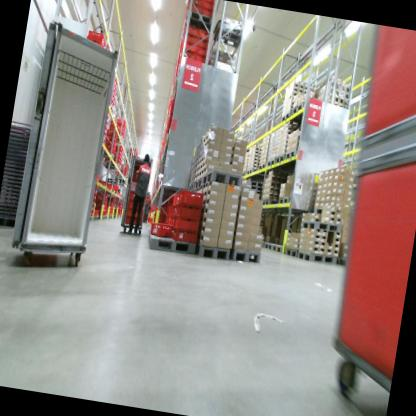pallet: (146, 227, 199, 255), (201, 166, 245, 193), (299, 214, 344, 234), (182, 8, 216, 34), (193, 240, 232, 262), (211, 22, 243, 48), (226, 245, 263, 265), (296, 249, 337, 266), (313, 204, 344, 218), (291, 98, 308, 120), (280, 111, 302, 126), (284, 147, 300, 164), (245, 167, 265, 180), (192, 174, 204, 194), (259, 197, 277, 210), (277, 194, 294, 207), (274, 152, 286, 168), (334, 253, 348, 265), (265, 157, 276, 171), (256, 160, 267, 173), (271, 243, 284, 254), (284, 248, 298, 258), (104, 162, 120, 170), (104, 179, 120, 187), (185, 180, 194, 193), (101, 151, 115, 159), (249, 180, 264, 187), (105, 176, 120, 182), (248, 185, 262, 191), (264, 241, 273, 250), (115, 134, 123, 143), (260, 238, 266, 248), (254, 194, 262, 201), (109, 106, 114, 115), (101, 138, 105, 146), (241, 170, 246, 176), (255, 190, 261, 195), (117, 167, 122, 171), (95, 215, 99, 220), (89, 216, 93, 221), (92, 215, 95, 220)
small_load_carrier: (175, 188, 205, 209), (174, 202, 204, 221), (85, 27, 108, 50), (173, 214, 199, 232), (171, 226, 198, 243), (148, 220, 173, 237), (181, 21, 201, 39), (197, 27, 214, 43), (194, 43, 210, 58), (196, 35, 212, 49), (179, 48, 195, 62), (194, 50, 209, 64), (186, 2, 203, 14), (184, 33, 198, 46), (202, 0, 215, 13), (201, 6, 215, 18), (151, 213, 166, 224), (181, 41, 196, 51), (153, 205, 168, 215), (186, 0, 203, 8), (166, 191, 174, 207), (108, 125, 122, 134), (107, 129, 119, 139), (171, 190, 179, 205), (169, 212, 176, 228), (95, 193, 107, 202), (104, 142, 116, 151), (105, 134, 118, 142), (109, 120, 122, 128), (104, 147, 116, 155), (105, 138, 117, 146), (95, 191, 108, 198), (98, 180, 109, 188), (164, 204, 172, 215), (170, 205, 177, 216), (164, 214, 170, 226), (92, 210, 99, 218), (117, 119, 126, 125), (109, 100, 115, 109), (98, 206, 105, 213), (109, 94, 114, 103), (204, 0, 215, 4), (114, 79, 119, 86), (112, 97, 116, 105), (105, 206, 109, 212), (114, 88, 117, 94), (112, 90, 115, 95), (113, 93, 116, 98), (113, 85, 115, 92)
